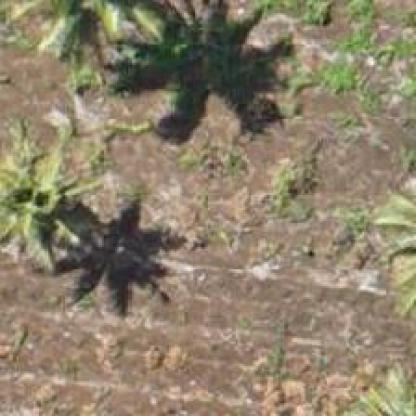coconut tree: (2, 118, 102, 272)
